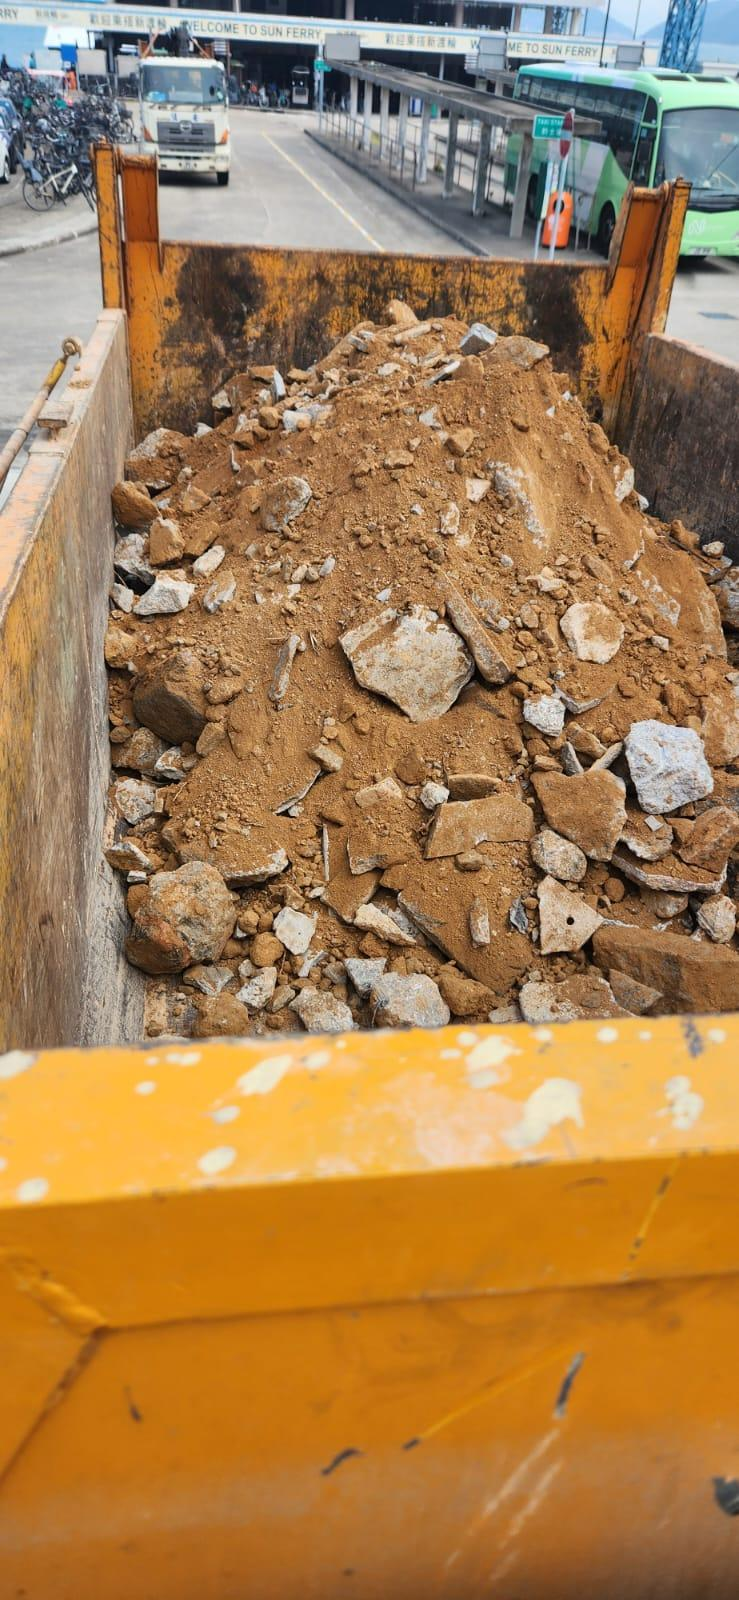dry: (110, 317, 739, 1030)
